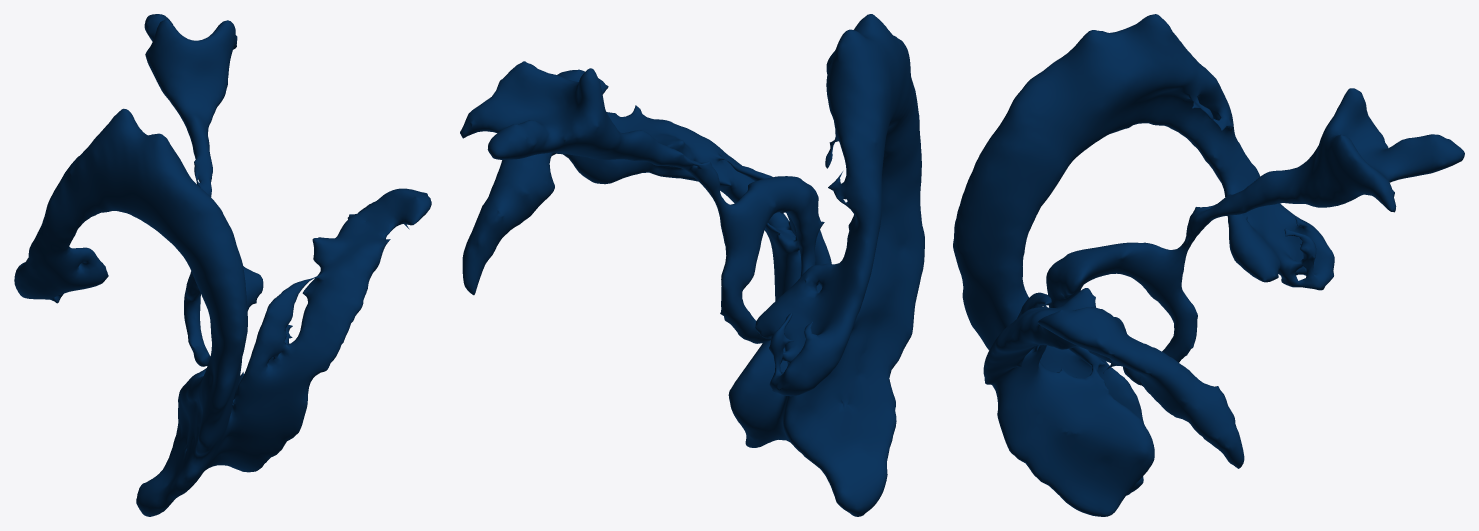
The model's file is Ventricle.obj.
3 renders of one model, left to right at view 1: azimuth 30°, elevation 25°; view 2: azimuth 150°, elevation 25°; view 3: azimuth 270°, elevation 25°, orthographic. The views are drawn at different scales.
Visible parts, largest first — view 1: grp1; view 2: grp1; view 3: grp1.
Part boxes in pixels (left/top/right/bottom): grp1: left=14, top=14, right=431, bottom=516; grp1: left=460, top=14, right=924, bottom=516; grp1: left=953, top=14, right=1464, bottom=516.
Size of the model in its own units: 65.99 by 74.98 by 72.75.
